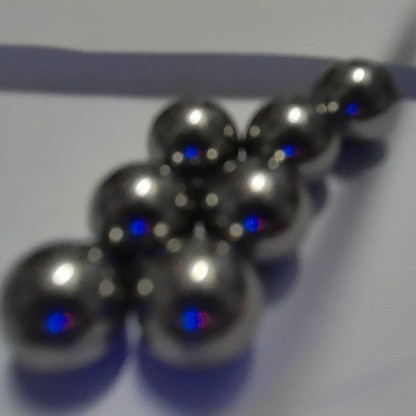ironball: (5, 241, 119, 368), (144, 241, 254, 367), (205, 159, 309, 260), (86, 161, 193, 249), (248, 101, 346, 177), (150, 96, 237, 174), (317, 57, 396, 137)
